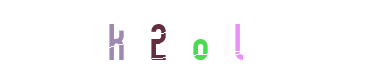2: (117, 0, 197, 80)
K: (113, 0, 193, 80)
L: (160, 0, 240, 80)
O: (150, 0, 230, 80)
